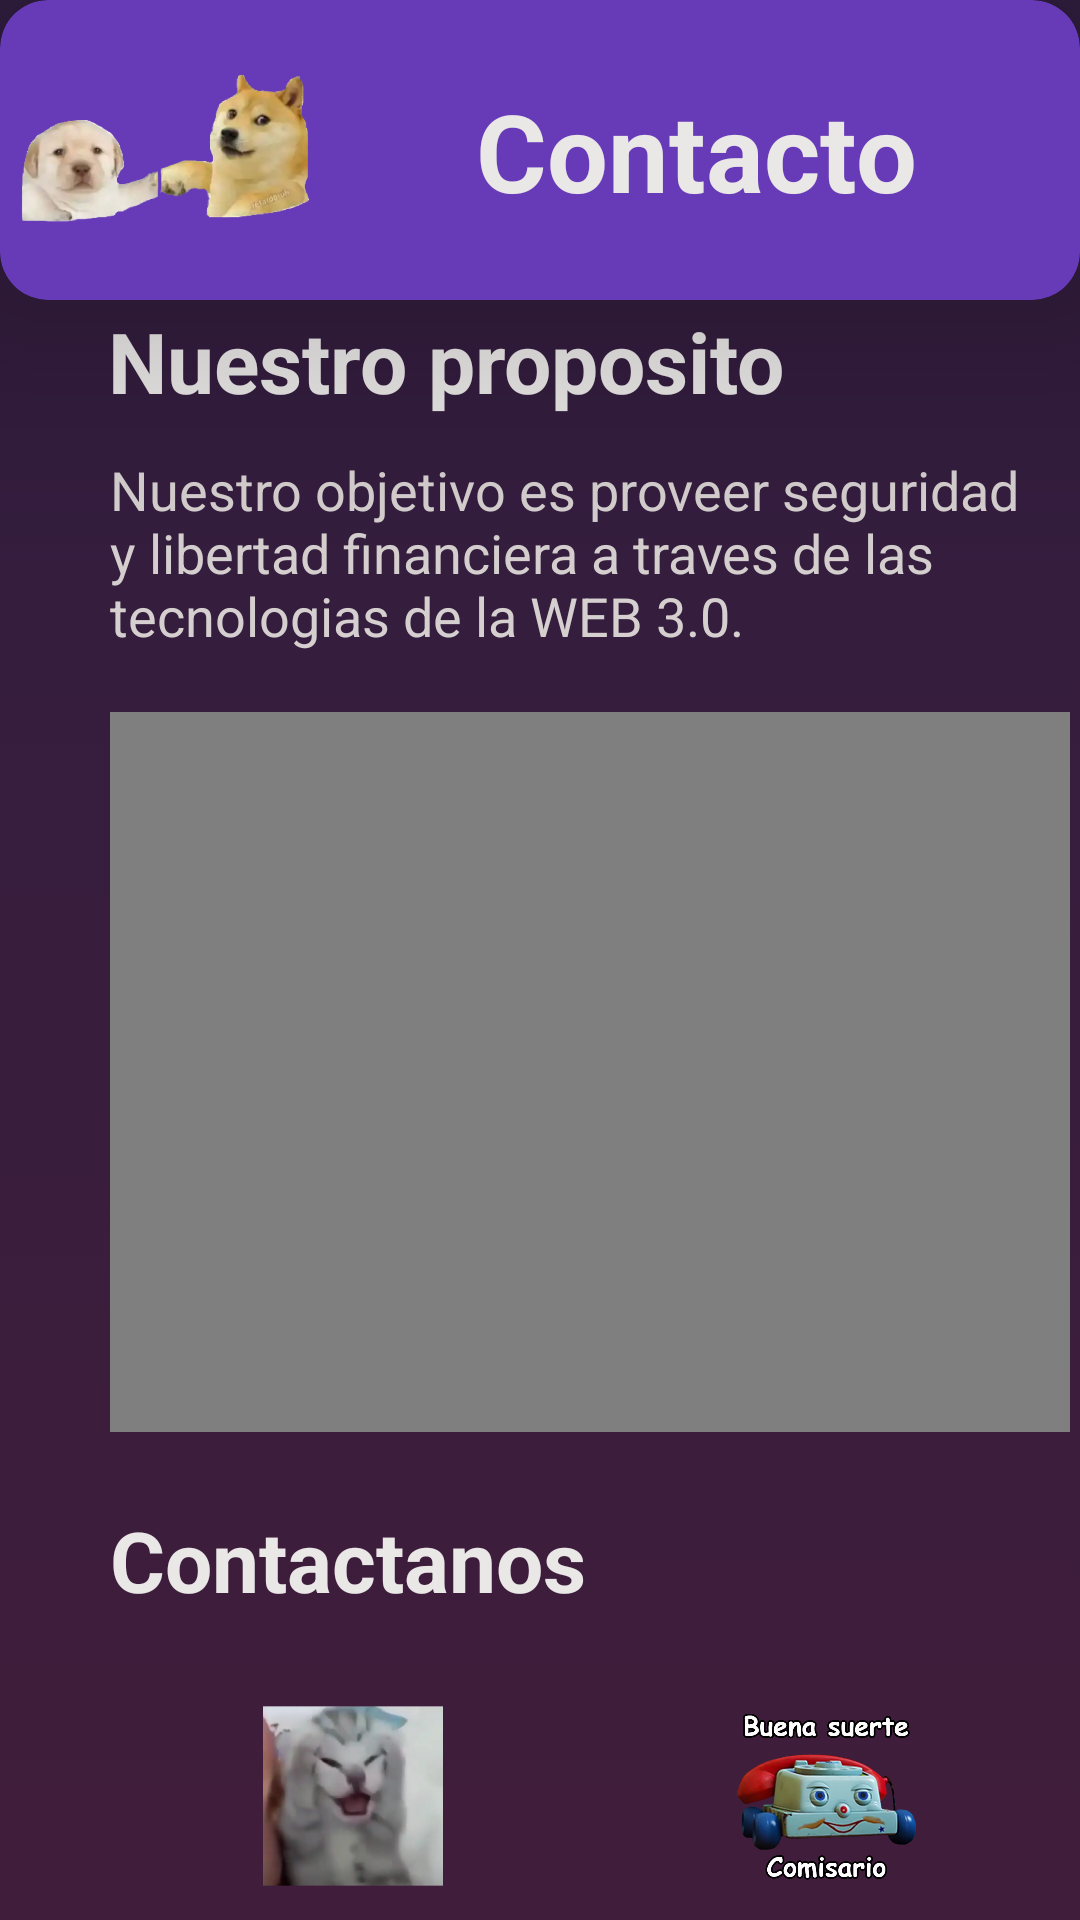

Icon bounding boxes for this 1080px x 1920px phone screenshot, format (left=x1, top=y1, right=x2, bottom=y2):
contact dogs: (left=22, top=75, right=309, bottom=222)
